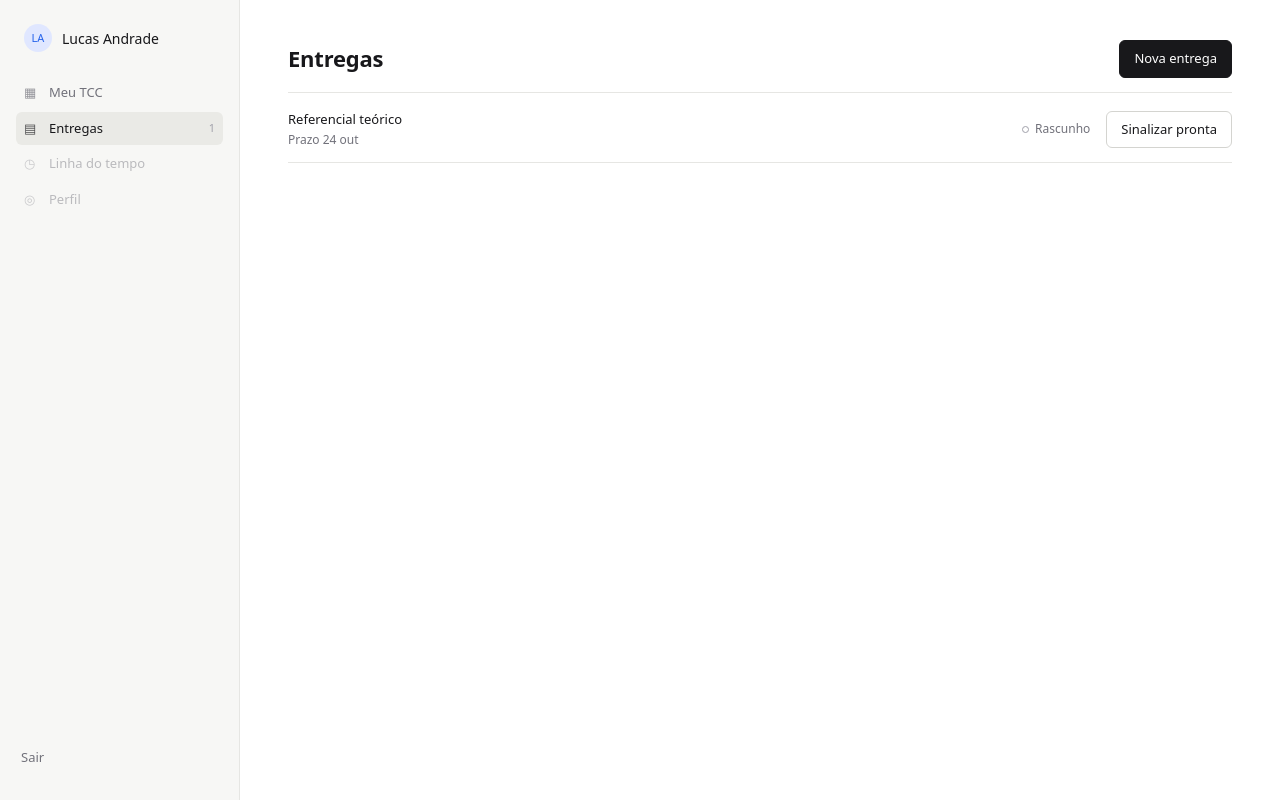
Sinalizar pronta (US08) › sinaliza, confirma que o orientador foi avisado e recarrega a lista (CA1 e CA3)
Click the button with aria-label "Sinalizar Referencial teórico como pronta" at x=1169, y=129, box [1106,110,1232,148]
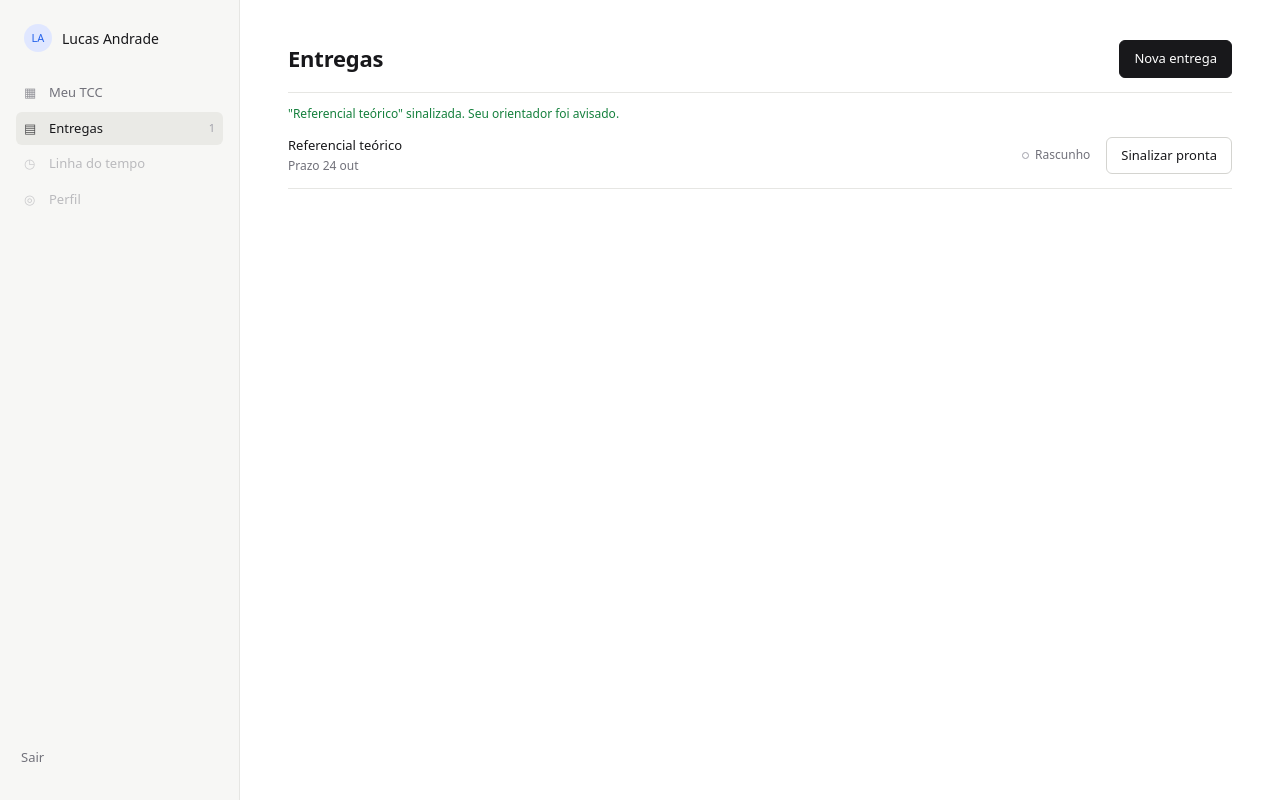
Result: the text "\"Referencial teórico\" sinalizada. Seu orientador foi avisado." is shown at [288,104,619,122]
